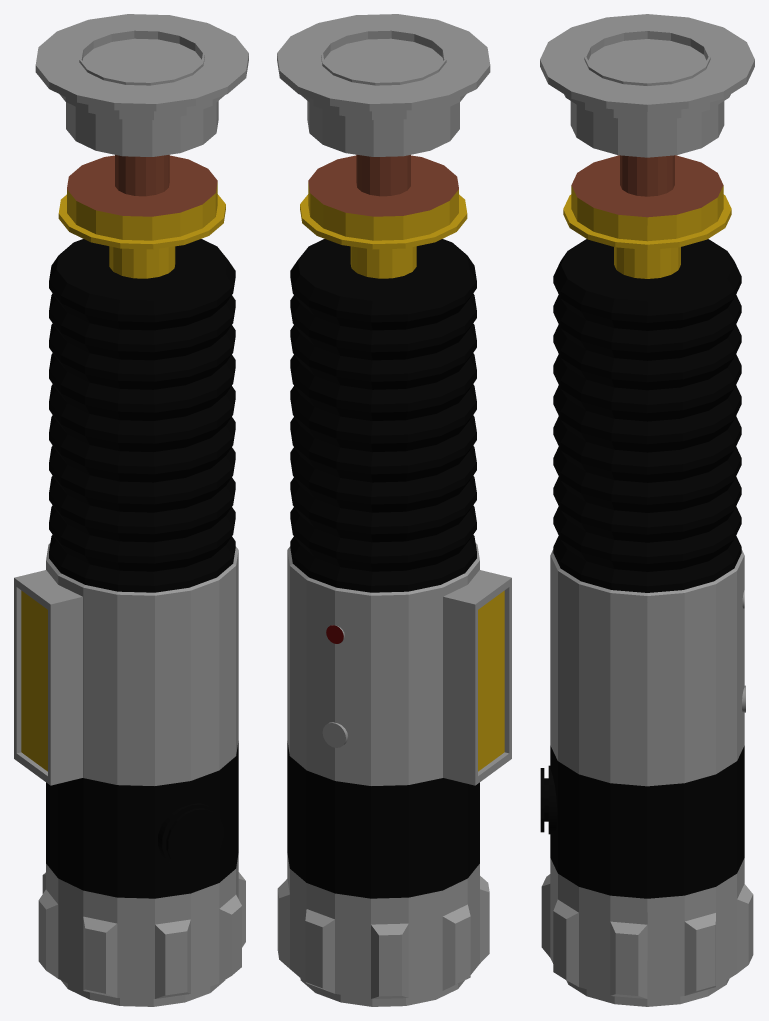
The model's file is LightSaber.fbx.
3 views of the same model, side by side, from view 1: azimuth 30°, elevation 25°; view 2: azimuth 150°, elevation 25°; view 3: azimuth 270°, elevation 25° (orthographic).
Parts seen in each view (by area): view 1: Cylinder022; view 2: Cylinder022; view 3: Cylinder022.
Boxes of the visible parts, <box> form: Cylinder022: <box>14,14,248,1006</box>; Cylinder022: <box>277,14,511,1006</box>; Cylinder022: <box>540,14,754,1006</box>.
Size of the model in its own units: 35.2 by 32.29 by 151.
